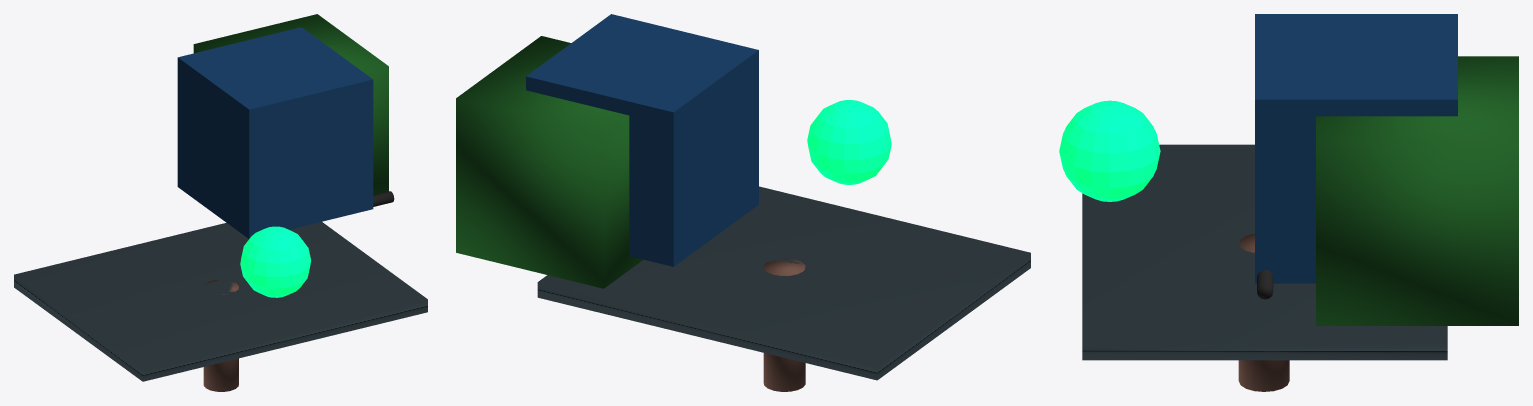
Rendered from AgroSence_Week4.glb.
3 renders of one model, left to right at view 1: azimuth 30°, elevation 25°; view 2: azimuth 150°, elevation 25°; view 3: azimuth 270°, elevation 25°, orthographic. The views are drawn at different scales.
Visible parts, largest first — view 1: Mounting_Base, Solar_Panel, Sensor_body, Status_LED, Soil_Probe; view 2: Mounting_Base, Solar_Panel, Sensor_body, Status_LED, Soil_Probe; view 3: Sensor_body, Mounting_Base, Solar_Panel, Status_LED, Soil_Probe, Sensor_Cable.
Part boxes in pixels (<box>): Mounting_Base: <box>14,222,427,381</box>; Solar_Panel: <box>177,27,373,238</box>; Sensor_body: <box>193,14,388,194</box>; Status_LED: <box>240,226,311,297</box>; Soil_Probe: <box>203,280,238,391</box>; Mounting_Base: <box>537,186,1030,380</box>; Solar_Panel: <box>526,14,758,266</box>; Sensor_body: <box>456,36,642,288</box>; Status_LED: <box>807,100,891,184</box>; Soil_Probe: <box>763,258,805,391</box>; Sensor_body: <box>1316,56,1518,325</box>; Mounting_Base: <box>1082,144,1447,360</box>; Solar_Panel: <box>1255,14,1457,283</box>; Status_LED: <box>1059,100,1160,201</box>; Soil_Probe: <box>1238,233,1289,391</box>; Sensor_Cable: <box>1257,270,1273,299</box>.
Bounding box in the file's own units: 5.3 × 4.18 × 4.53.
